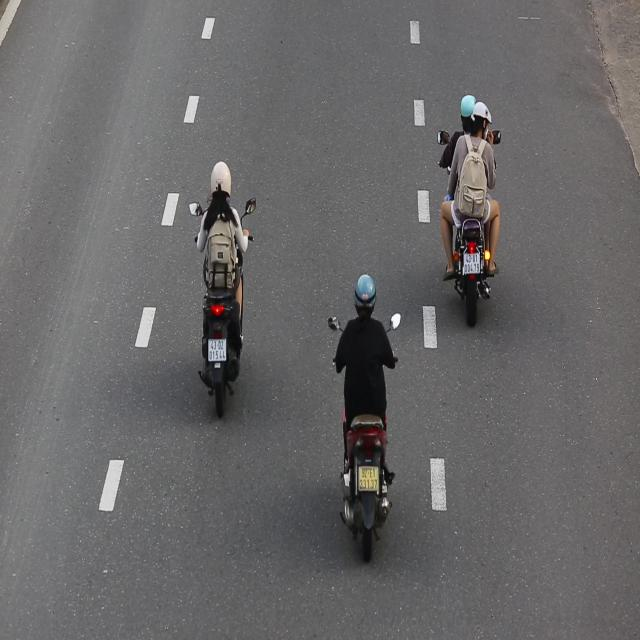motorbike: (326, 270, 403, 564), (189, 158, 258, 422), (437, 90, 508, 330)
